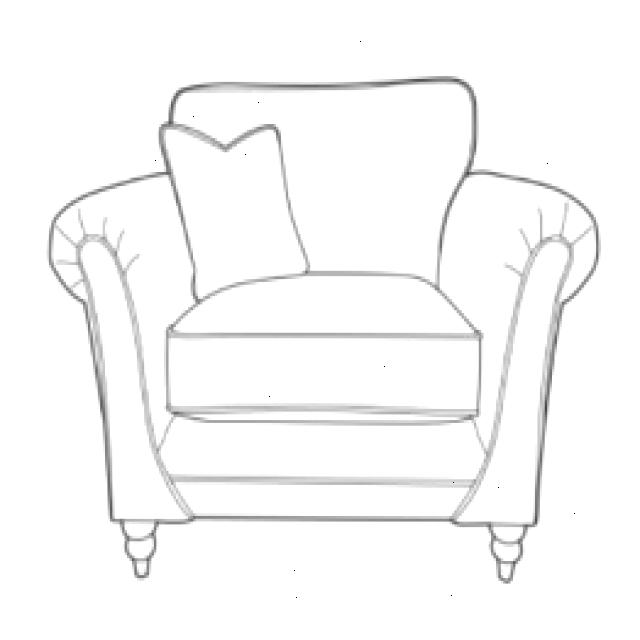Backrest: (157, 79, 476, 306)
Leg_Structure: (108, 509, 541, 592)
Seat: (165, 270, 485, 422)
sofa_armrest: (438, 169, 601, 523), (48, 168, 199, 521)
